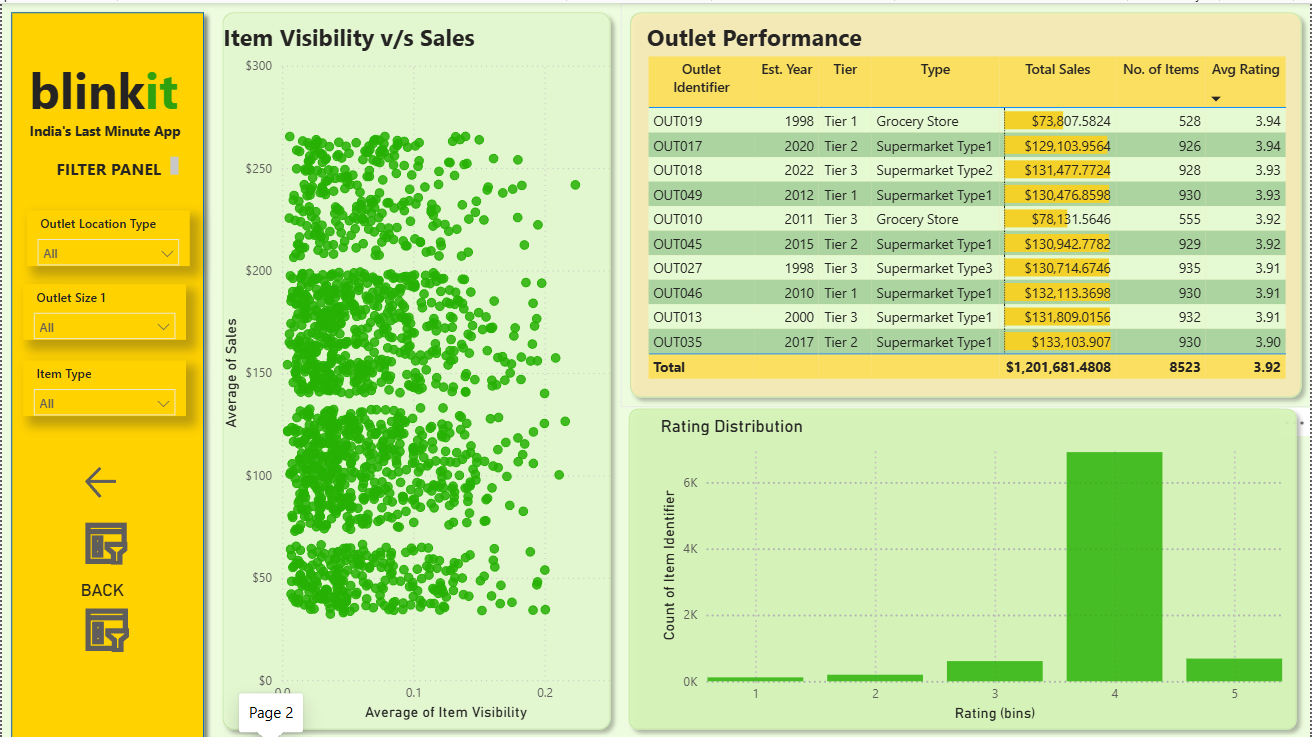

The dashboard page shown, as its layout file describes it:
{"tool":"powerbi","page":{"name":"Page 2","canvas":[1280,720],"ordinal":1},"visuals":[{"type":"shape","box":[0,0,206.7,750],"z":0},{"type":"textbox","box":[21.7,46.7,185,100],"z":2},{"type":"textbox","box":[21.7,111.7,170,35],"z":3},{"type":"shape","box":[206.7,0,397.7,719.8],"z":8},{"type":"shape","box":[605,0,675,395],"z":16},{"type":"slicer","fields":{"Values":["BlinkIT Grocery Data.Outlet Location Type"]},"box":[24,202.6,159.1,54],"z":24},{"type":"slicer","fields":{"Values":["BlinkIT Grocery Data.Outlet Size"]},"box":[21,274.7,159.1,54],"z":25},{"type":"slicer","fields":{"Values":["BlinkIT Grocery Data.Item Type"]},"box":[21,349.7,159.1,54],"z":26},{"type":"textbox","box":[38.9,145.2,138.8,29.5],"z":27},{"type":"actionButton","box":[76.5,504.3,54,49.5],"z":28},{"type":"actionButton","title":"BACK","box":[76.5,564.3,84,75],"z":29},{"type":"actionButton","box":[76.5,448.8,100.6,40.5],"z":30},{"type":"tableEx","title":"Outlet Performance","fields":{"Values":["BlinkIT Grocery Data.Outlet Identifier","BlinkIT Grocery Data.Outlet Establishment Year","BlinkIT Grocery Data.Outlet Location Type","BlinkIT Grocery Data.Outlet Type","Sum(BlinkIT Grocery Data.Sales)","BlinkIT Grocery Data.Item Identifier","Avg(BlinkIT Grocery Data.Rating)"]},"box":[626.1,17.1,650.5,359.5],"z":31},{"type":"scatterChart","title":"Item Visibility v/s Sales ","fields":{"X":["Avg(BlinkIT Grocery Data.Item Visibility)"],"Y":["Avg(BlinkIT Grocery Data.Sales)"],"Category":["BlinkIT Grocery Data.Item Identifier"]},"box":[211.1,17,396.6,689.4],"z":32},{"type":"shape","box":[604.4,387.7,671.4,332.1],"z":33},{"type":"clusteredColumnChart","title":"Rating Distribution","fields":{"Y":["CountNonNull(BlinkIT Grocery Data.Item Identifier)"],"Category":["BlinkIT Grocery Data.Rating (bins)"]},"box":[640,404,618,304],"z":34}]}

Visuals, with their boxes in screenshot pixels (x1, y1, x2, y2), scaled from the page's 1280x720 canvas onto the 1312x737 screenshot:
shape: <region>0, 0, 212, 736</region>
textbox: <region>22, 48, 212, 150</region>
textbox: <region>22, 114, 196, 150</region>
shape: <region>212, 0, 620, 736</region>
shape: <region>620, 0, 1311, 404</region>
slicer - BlinkIT Grocery Data.Outlet Location Type: <region>25, 207, 188, 263</region>
slicer - BlinkIT Grocery Data.Outlet Size: <region>22, 281, 185, 336</region>
slicer - BlinkIT Grocery Data.Item Type: <region>22, 358, 185, 413</region>
textbox: <region>40, 149, 182, 179</region>
actionButton: <region>78, 516, 134, 567</region>
"BACK" actionButton: <region>78, 578, 165, 654</region>
actionButton: <region>78, 459, 182, 501</region>
"Outlet Performance" tableEx: <region>642, 18, 1309, 385</region>
"Item Visibility v/s Sales " scatterChart: <region>216, 17, 623, 723</region>
shape: <region>620, 397, 1308, 736</region>
"Rating Distribution" clusteredColumnChart: <region>656, 414, 1289, 725</region>
